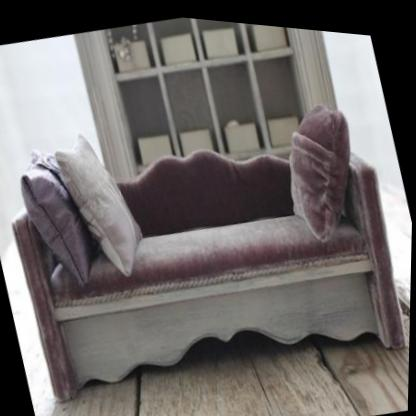Sofa: (0, 56, 415, 416)
